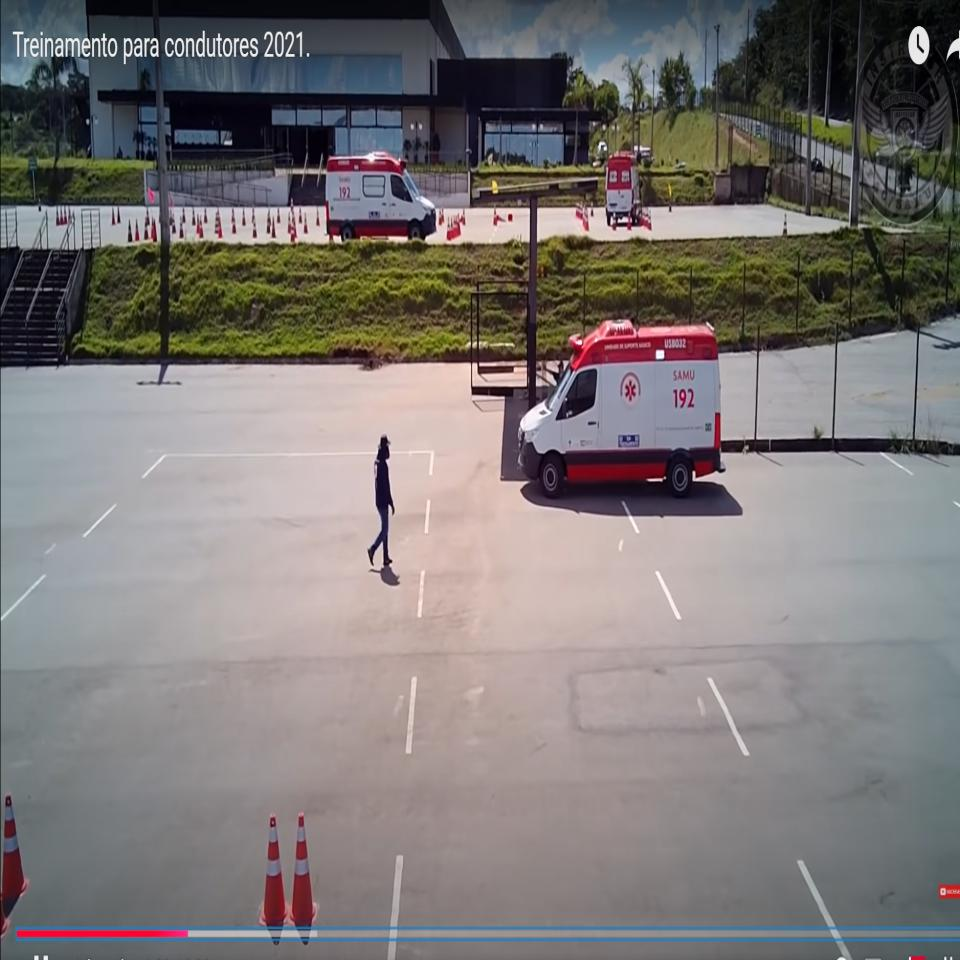bombeiro: (518, 317, 726, 499), (326, 144, 436, 241), (605, 150, 644, 228)
